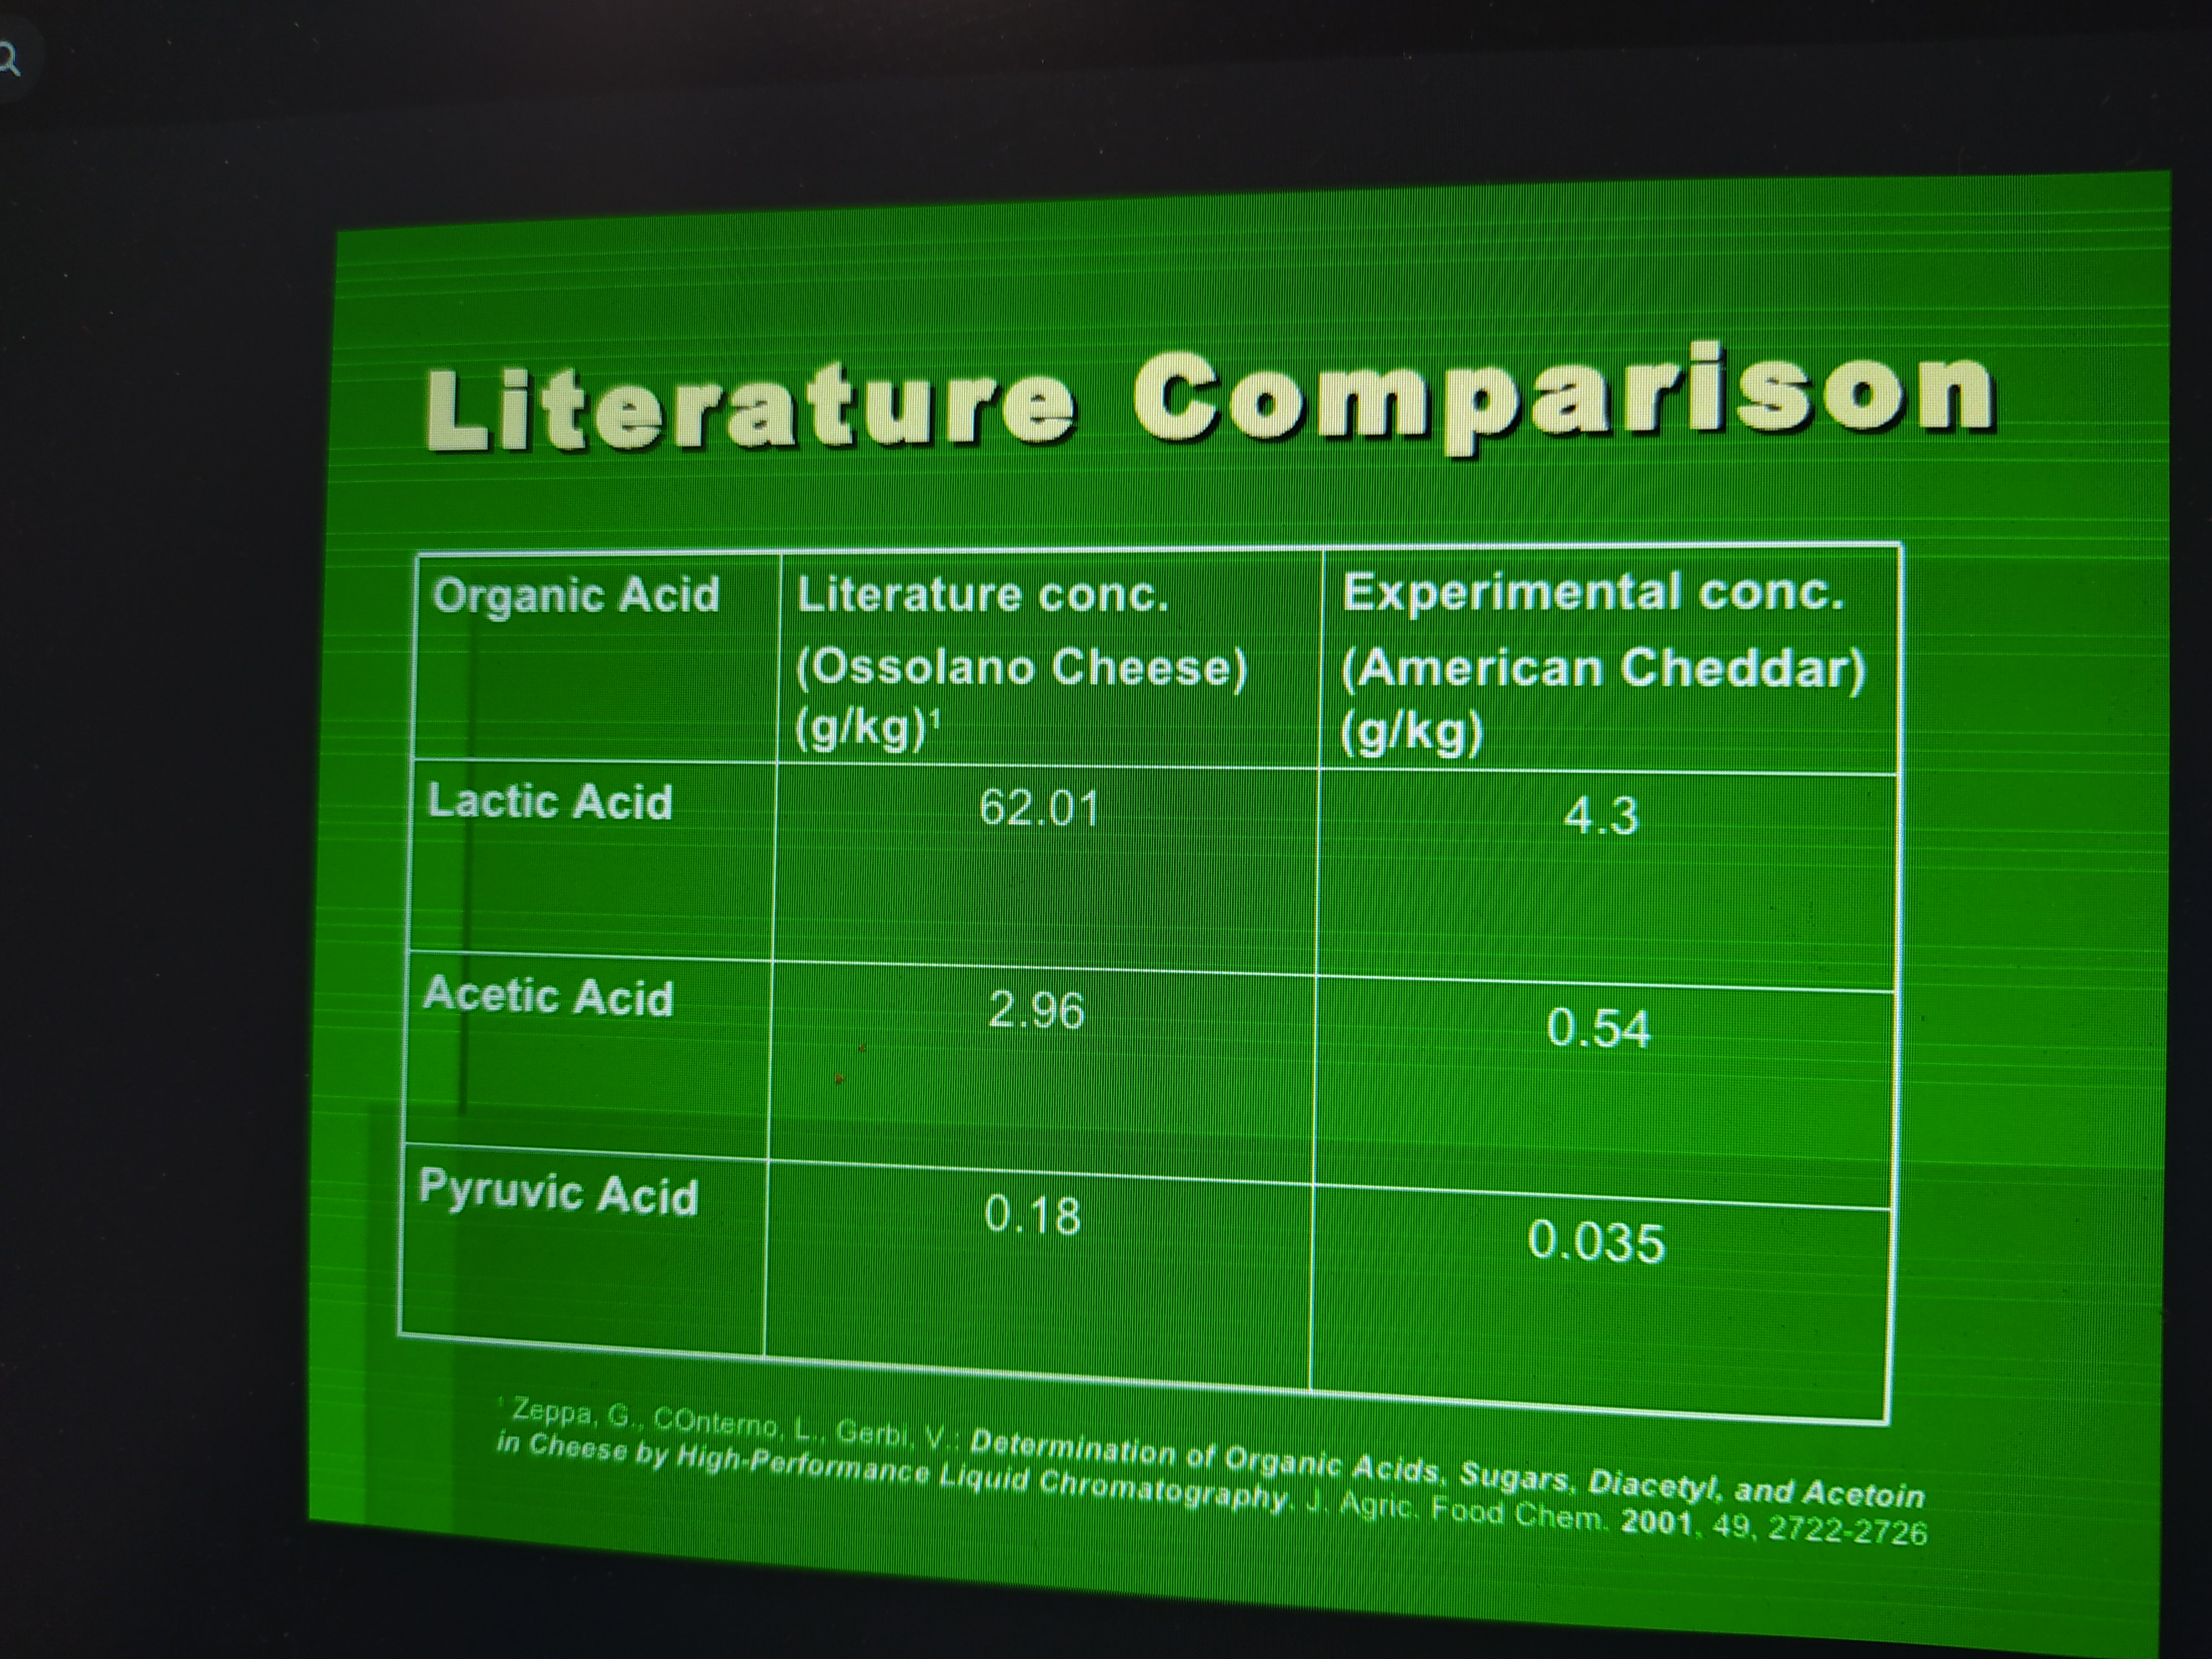.: (1561, 1218, 1569, 1260), (1597, 796, 1606, 835), (1580, 1007, 1588, 1046), (1015, 1194, 1022, 1232), (1021, 990, 1028, 1026), (1038, 788, 1043, 826), (1695, 1511, 1702, 1537)
0: (1547, 1007, 1576, 1047), (1575, 1220, 1602, 1262), (1529, 1218, 1555, 1260), (982, 1194, 1010, 1232), (1050, 789, 1073, 826), (1656, 1509, 1676, 1535), (1639, 1507, 1656, 1534)
1: (1082, 789, 1097, 826), (1031, 1194, 1045, 1234), (1676, 1509, 1691, 1535), (928, 708, 941, 728)
2: (988, 988, 1015, 1028), (1008, 788, 1033, 824), (1618, 1507, 1639, 1534), (1766, 1514, 1787, 1541), (1892, 1518, 1909, 1547), (1853, 1518, 1872, 1544), (1825, 1516, 1843, 1542), (1808, 1514, 1824, 1542)
3: (1604, 1222, 1634, 1262), (1611, 795, 1639, 835)
4: (1564, 795, 1594, 835), (1623, 1007, 1651, 1049), (1712, 1513, 1731, 1539)
5: (1635, 1223, 1665, 1265), (1594, 1007, 1622, 1049)
6: (981, 788, 1005, 826), (1059, 992, 1083, 1030), (1911, 1521, 1928, 1546)
7: (1787, 1514, 1804, 1541), (1874, 1520, 1892, 1544)
8: (1057, 1195, 1082, 1236)
9: (1031, 990, 1057, 1030), (1733, 1511, 1749, 1539)
